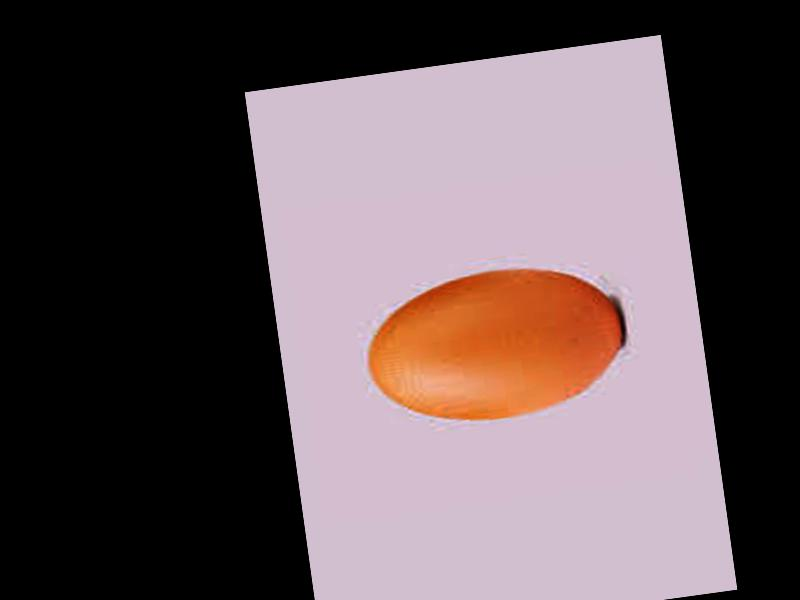Eggs: (354, 256, 633, 433)
